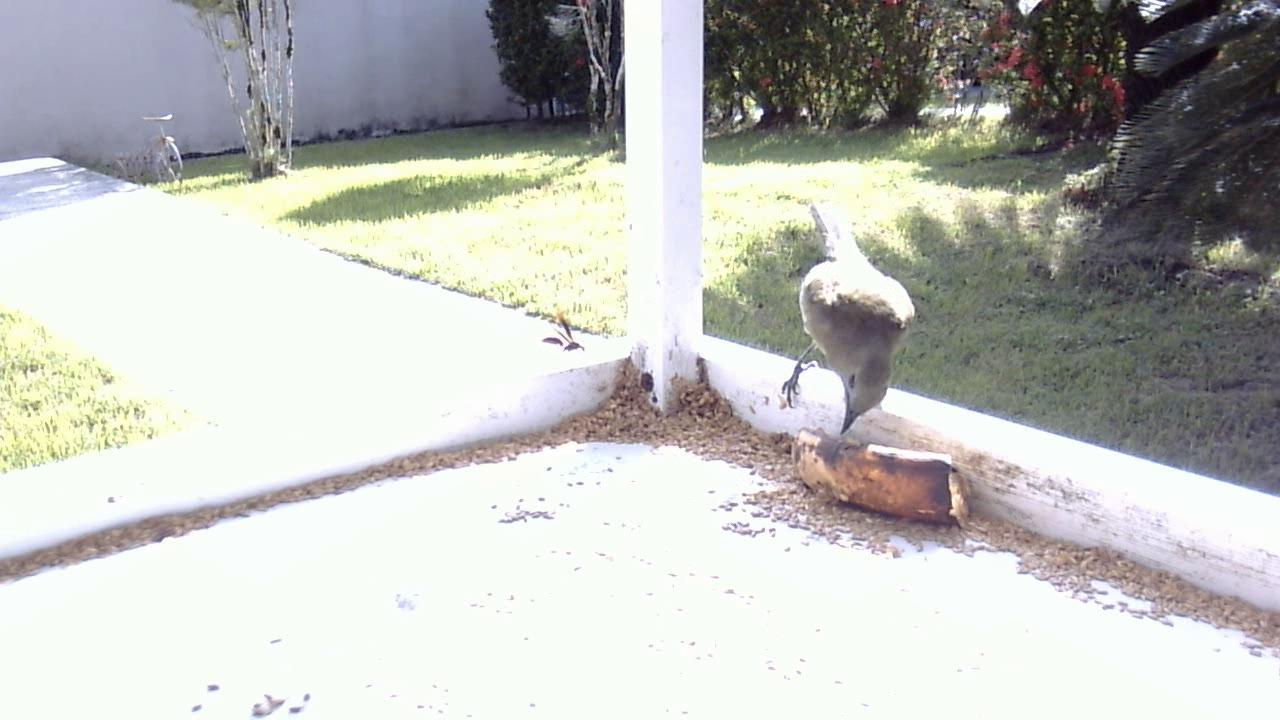sanhaco_do_coqueiro: (770, 200, 922, 445)
